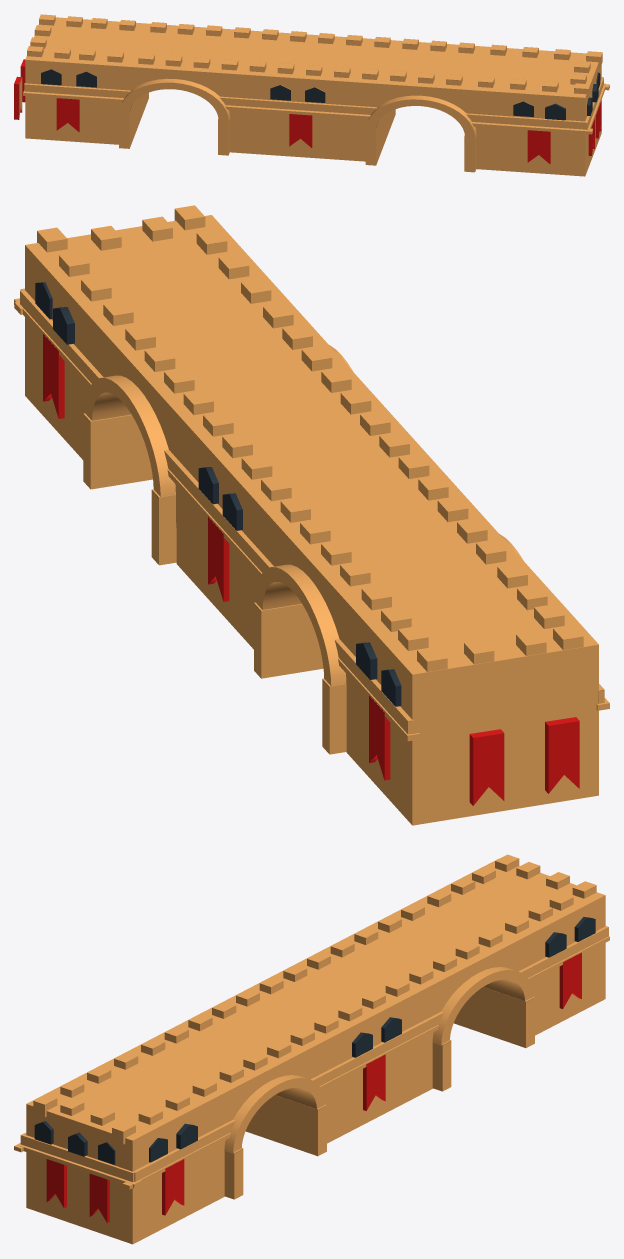
The model's file is walkway.FBX.
3 views of the same model, one above another, from view 1: azimuth 30°, elevation 25°; view 2: azimuth 150°, elevation 25°; view 3: azimuth 270°, elevation 25° (orthographic). The views are drawn at different scales.
Visible parts, largest first — view 1: Box080, Box061, Box098, arch1, arch002, arch leg left, arch leg left001, Box071, Box069, Box070, arch leg right, arch leg right001 (+7 smaller); view 2: Box080, Box103, arch leg right, arch leg right001, arch002, arch1, Box064, Box065, Box104, arch leg left, arch leg left001, Box113 (+2 smaller); view 3: Box080, Box103, arch leg left, arch leg left001, arch1, arch002, Box104, Box058, Box113, Box114, Box115, arch leg right (+4 smaller).
Part boxes in pixels (x1,y1,x2,y2): Box080: (25,17,601,176); Box061: (24,83,585,129); Box098: (23,90,592,134); arch1: (365,95,476,137); arch002: (119,78,230,121); arch leg left: (365,109,395,165); arch leg left001: (119,92,148,148); Box071: (56,98,79,131); Box069: (527,130,550,163); Box070: (289,114,312,147); arch leg right: (464,136,476,172); arch leg right001: (218,119,229,155); Box080: (25,215,598,825); Box103: (20,290,414,734); arch leg right: (83,413,152,489); arch leg right001: (254,602,323,678); arch002: (255,534,523,686); arch1: (85,345,352,496); Box064: (469,729,504,805); Box065: (545,717,579,793); Box104: (14,298,419,741); arch leg left: (151,489,176,565); arch leg left001: (322,678,346,754); Box113: (43,333,64,418); Box080: (26,858,605,1244); Box103: (133,926,608,1181); arch leg left: (245,1095,326,1156); arch leg left001: (454,987,534,1047); arch1: (224,1075,325,1153); arch002: (432,967,533,1045); Box104: (122,936,609,1189); Box058: (20,1133,135,1182); Box113: (162,1159,184,1215); Box114: (363,1054,385,1110); Box115: (559,952,581,1008); arch leg right: (224,1148,243,1199).
Size of the model in its own units: 3379 by 605 by 2944.
1 material, 1 textured.
